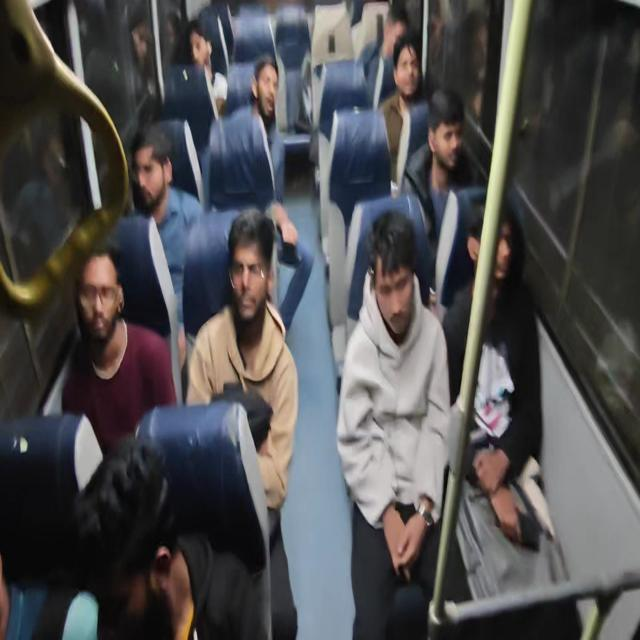person: (76, 426, 185, 638), (219, 200, 291, 322), (366, 205, 422, 348), (69, 233, 127, 350), (459, 195, 517, 285), (118, 120, 174, 210), (426, 74, 467, 167), (174, 11, 222, 73), (245, 51, 285, 125), (382, 33, 423, 98), (382, 9, 412, 46)
